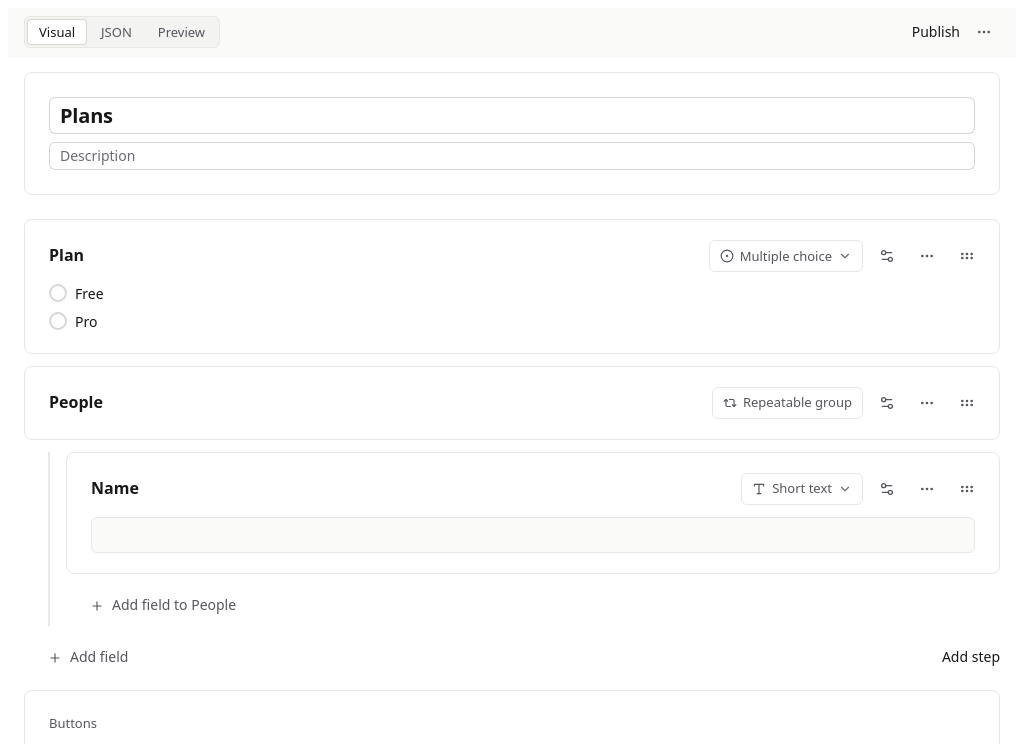
Test case: field settings sections › leaves the required control off a repeatable group
The image size is (1024, 744).
Step 1. Click the 2nd button named "Field settings" → click(887, 403), box 871,387 -> 903,419
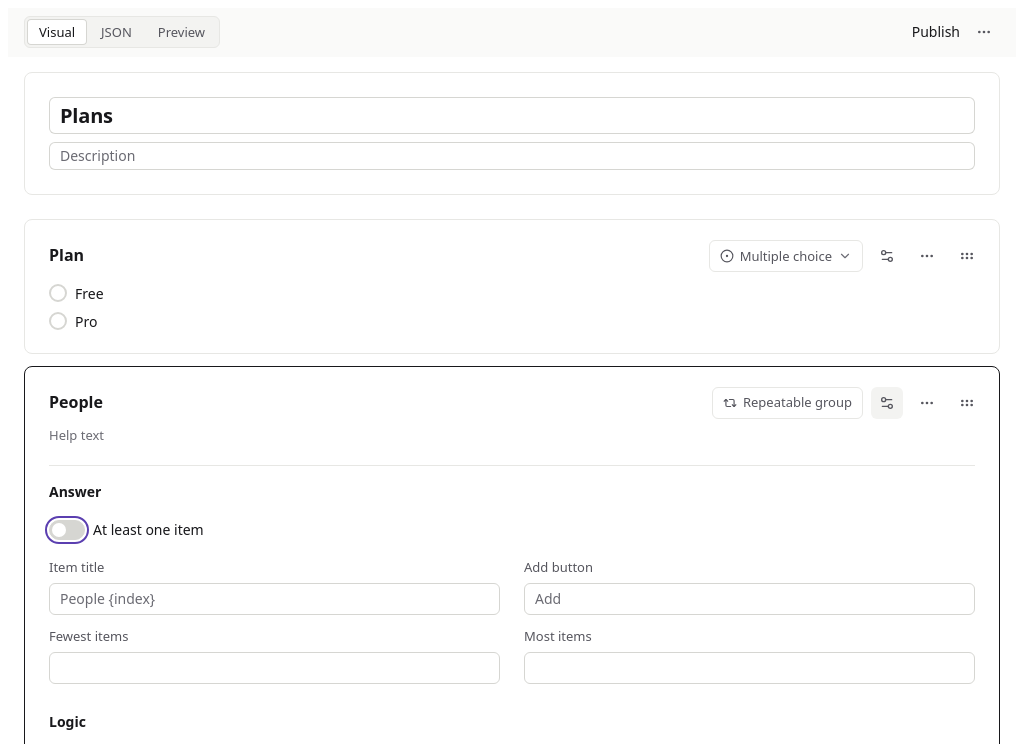
Step 2. Click the 2nd button named "Field actions" → click(927, 403), box 911,387 -> 943,419
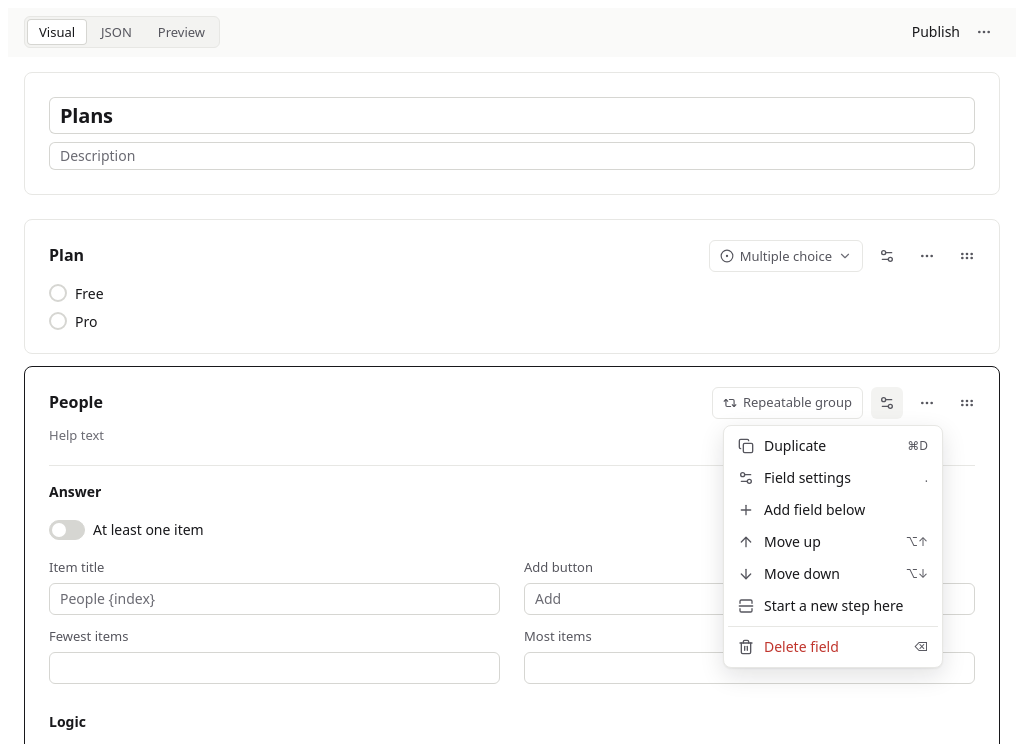
expect the menu item "Duplicate ⌘D" is shown: met, box 738,436 -> 928,455
